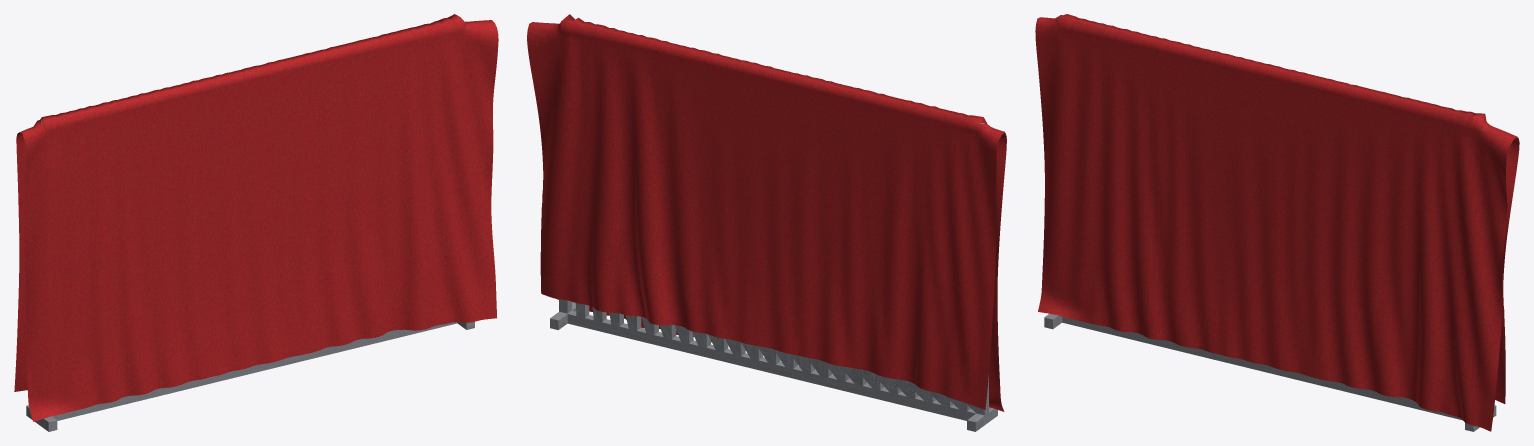
The model's file is Fence_1_v2.fbx.
The picture shows the model from 3 angles, left to right: view 1: azimuth 30°, elevation 25°; view 2: azimuth 150°, elevation 25°; view 3: azimuth 330°, elevation 25°; orthographic projection.
Parts seen in each view (by area): view 1: pPlane3; view 2: pPlane3; view 3: pPlane3.
Boxes of the visible parts, box(x1,y1,x2,y2) form: pPlane3: box(14, 14, 498, 431); pPlane3: box(527, 14, 1006, 431); pPlane3: box(1035, 14, 1519, 431).
Bounding box in the file's own units: 15.51 × 9.59 × 1.47.
Materials: 2 (2 with a texture image).
